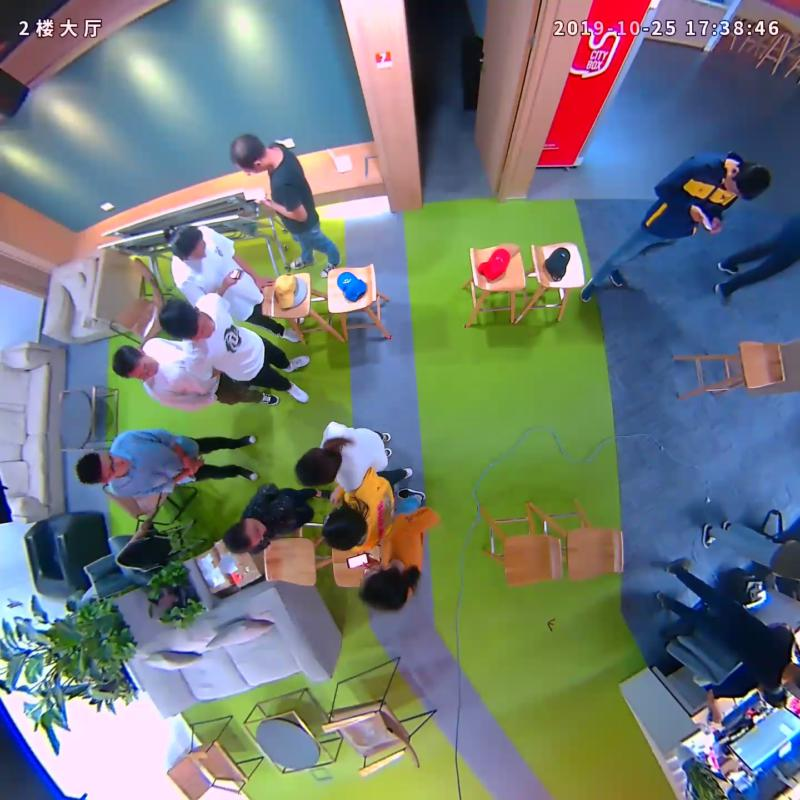head: (158, 298, 213, 341), (360, 565, 409, 612), (323, 505, 368, 551), (723, 160, 771, 202), (75, 449, 130, 485), (294, 447, 341, 488), (223, 517, 268, 554), (229, 133, 270, 173), (112, 344, 155, 381), (166, 224, 207, 261)
